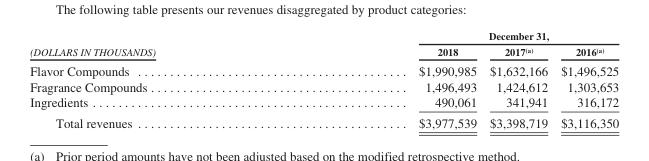table: (29, 29, 618, 129)
table column: (29, 29, 286, 129), (286, 29, 482, 129), (482, 29, 553, 129), (553, 29, 618, 129)
table column header: (29, 29, 618, 60)
table row: (29, 60, 618, 78), (29, 94, 618, 112), (29, 43, 618, 60), (29, 112, 618, 129), (29, 78, 618, 94), (29, 29, 618, 43)
table spanning cell: (29, 29, 286, 60), (286, 29, 618, 43)
